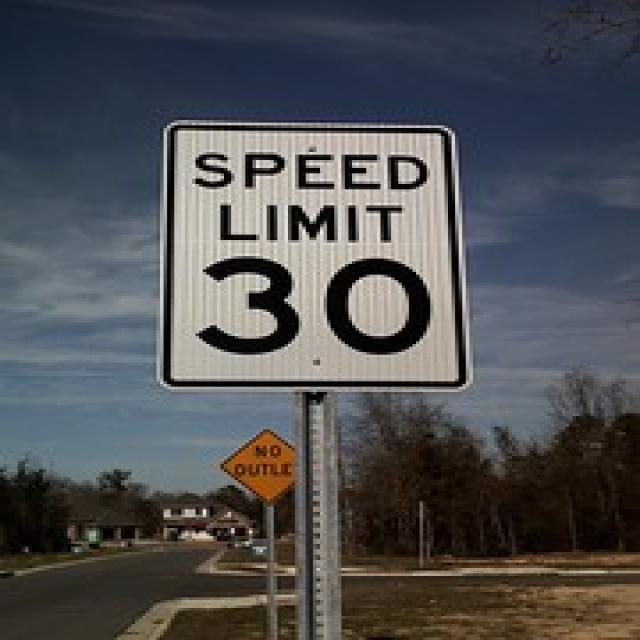speedLimit35: (163, 112, 470, 400)
